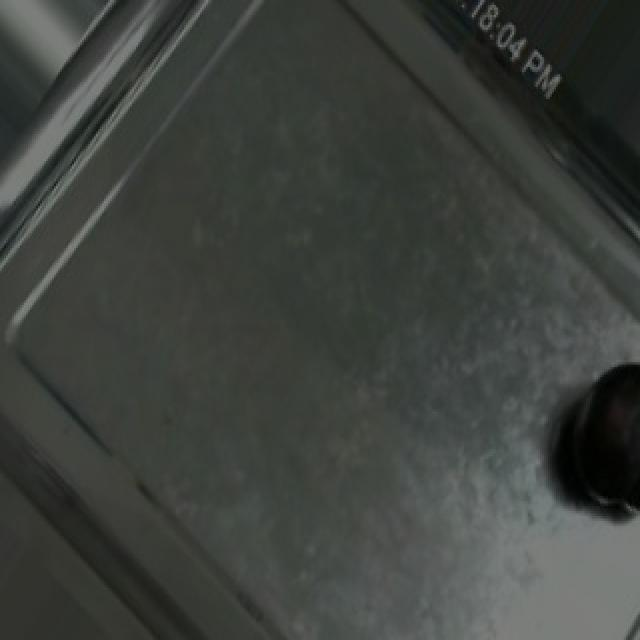Fruit: (542, 345, 640, 526)
